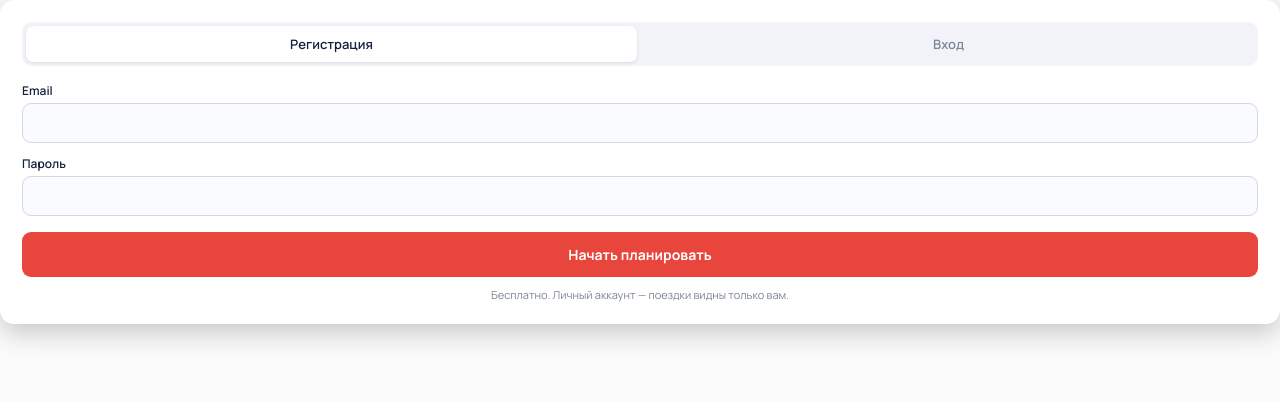
Test: AuthCard › показывает ошибки валидации при пустой отправке
Click the button "Начать планировать".
click(640, 254)  # box [22,232,1258,277]
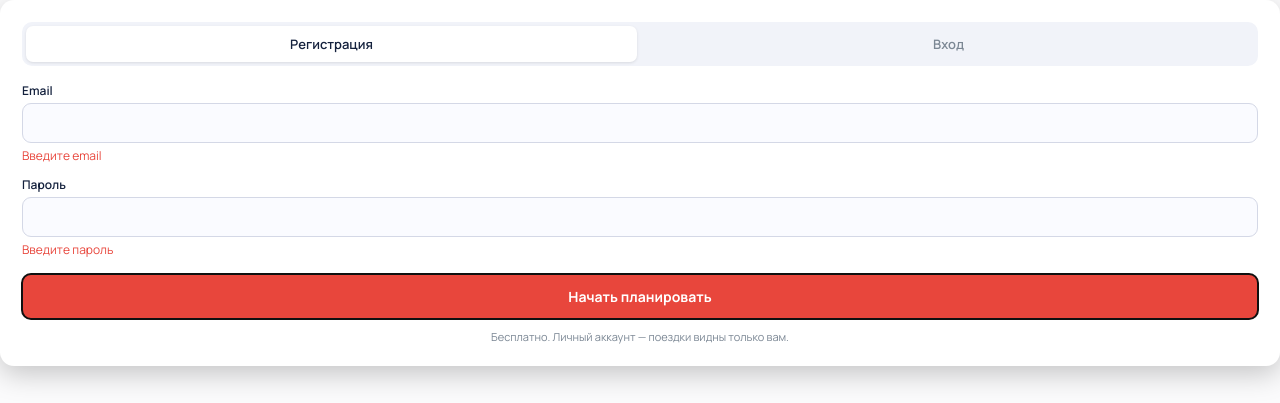
Check: the text "Введите email" is shown, box [22,147,102,164]
Check: the text "Введите пароль" is shown, box [22,241,113,258]
